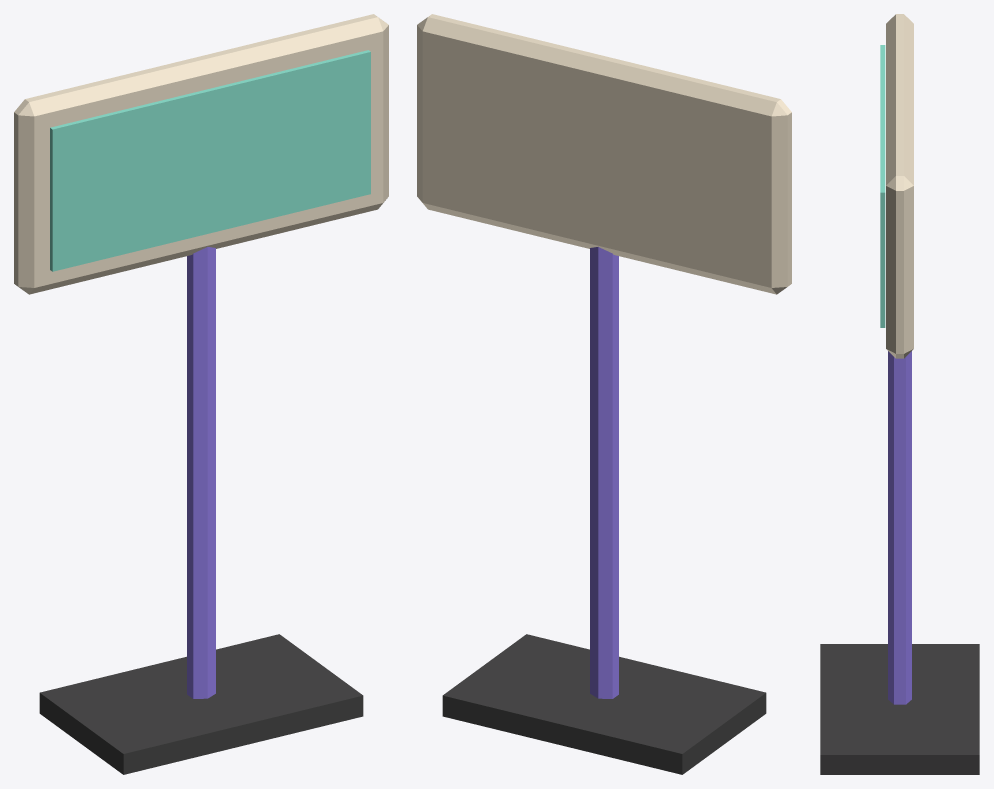
The picture shows the model from 3 angles, left to right: view 1: azimuth 30°, elevation 25°; view 2: azimuth 150°, elevation 25°; view 3: azimuth 270°, elevation 25°; orthographic projection. The views are drawn at different scales.
Parts seen in each view (by area): view 1: Inset, Sign panel, Foot, Stand; view 2: Sign panel, Foot, Stand; view 3: Foot, Sign panel, Stand, Inset.
Boxes of the visible parts, x1,y1,x2,y2 form: Inset: (50, 50, 370, 271); Sign panel: (14, 14, 388, 294); Foot: (39, 634, 363, 774); Stand: (187, 247, 215, 698); Sign panel: (417, 14, 791, 294); Foot: (442, 634, 766, 774); Stand: (590, 247, 618, 698); Foot: (820, 644, 979, 774); Sign panel: (886, 14, 913, 358); Stand: (888, 351, 911, 704); Inset: (880, 45, 885, 327).
Bounding box in the file's own units: 102 × 173 × 40.
